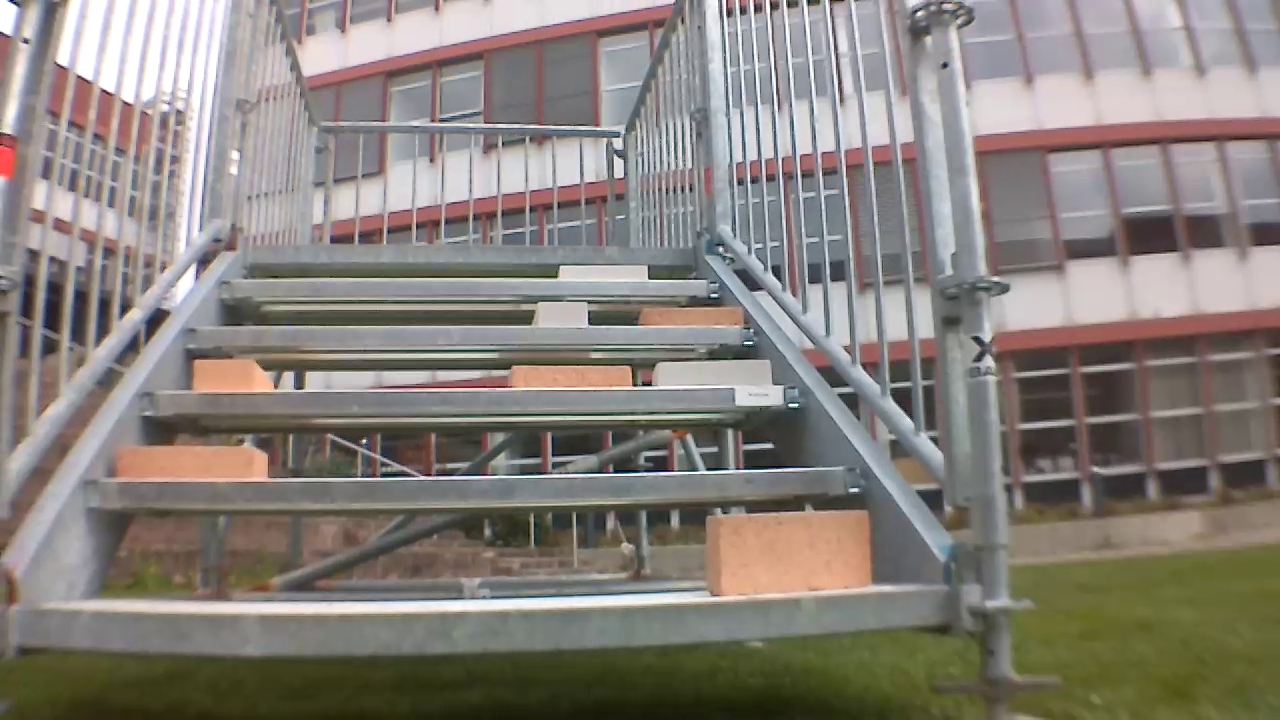brick: (707, 508, 879, 596), (108, 442, 272, 481), (649, 358, 778, 386), (633, 295, 749, 323), (503, 366, 635, 389), (190, 355, 268, 390), (527, 299, 593, 326), (553, 263, 645, 280)
edge: (19, 590, 973, 651), (88, 468, 866, 502), (139, 381, 802, 412), (181, 324, 766, 346), (216, 279, 727, 304), (249, 246, 695, 269)
stairs: (0, 0, 1017, 710)
steps: (2, 241, 1026, 646)
